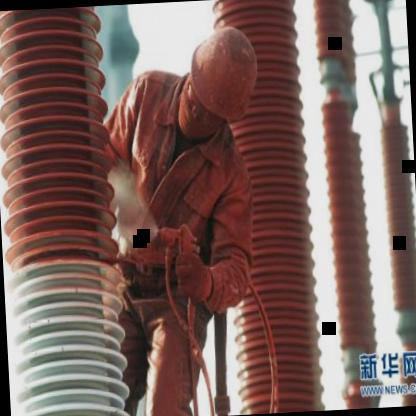helmet: (168, 13, 262, 144)
